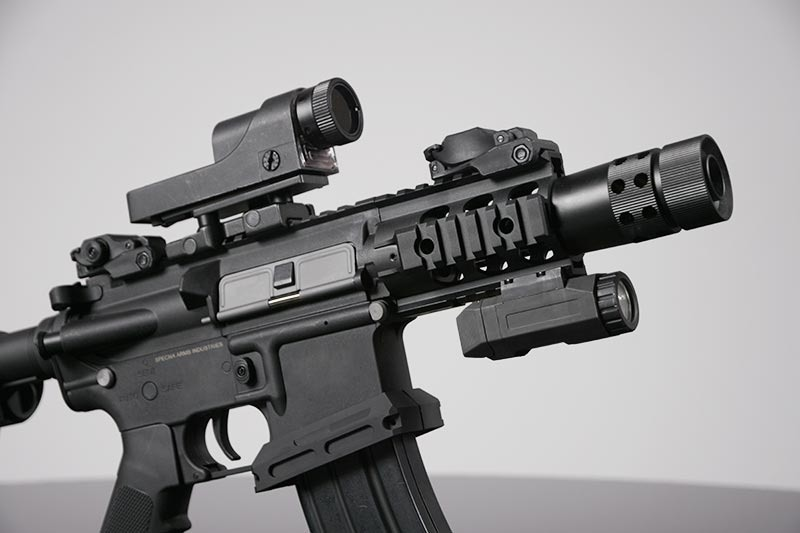m4_carbine: (25, 208, 438, 530)
